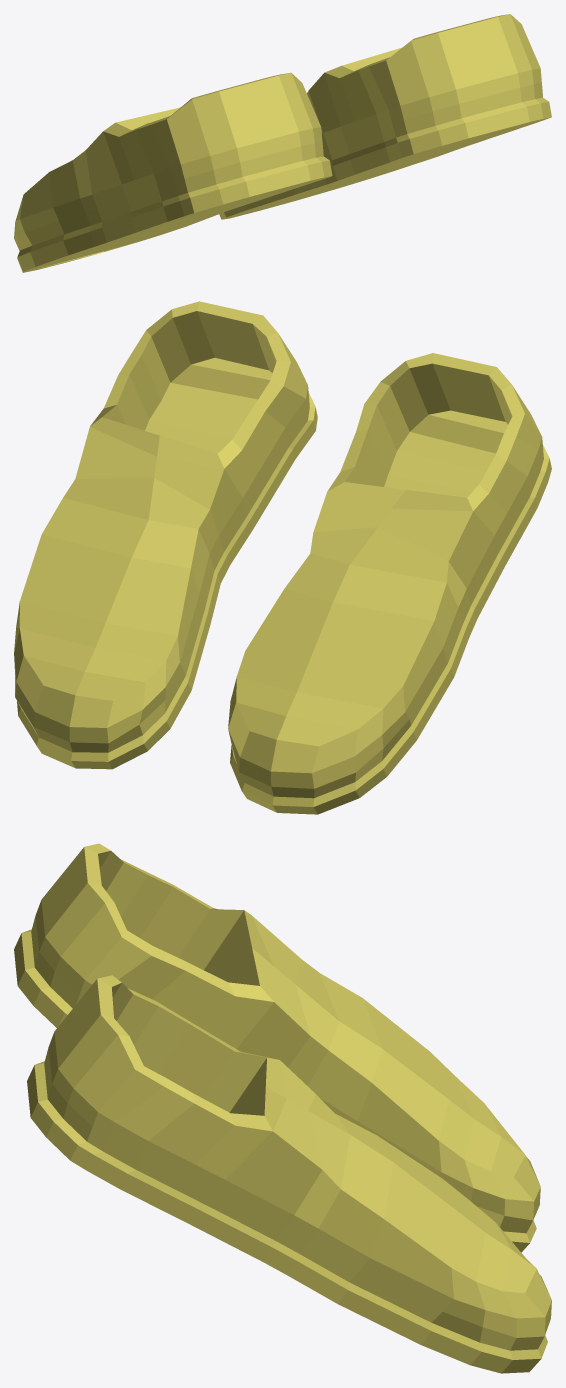
File: shoes.obj
The picture shows the model from 3 angles, top to bottom: view 1: azimuth 30°, elevation 25°; view 2: azimuth 150°, elevation 25°; view 3: azimuth 270°, elevation 25°; orthographic projection. The views are drawn at different scales.
Parts seen in each view (by area): view 1: Plane; view 2: Plane; view 3: Plane.
Boxes of the visible parts, left/top/right/bottom form: Plane: left=14, top=14, right=551, bottom=272; Plane: left=14, top=301, right=551, bottom=814; Plane: left=14, top=843, right=551, bottom=1373.
Bounding box in the file's own units: 0.6226 × 0.48 × 0.6227.
1 material, 1 textured.
